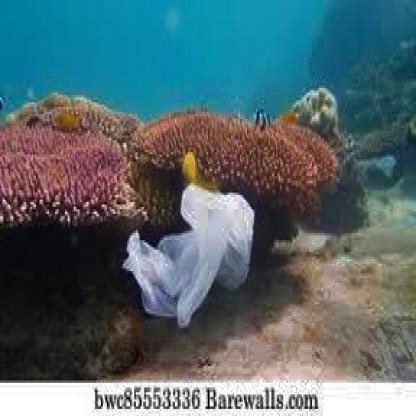pbag: (121, 178, 257, 328)
